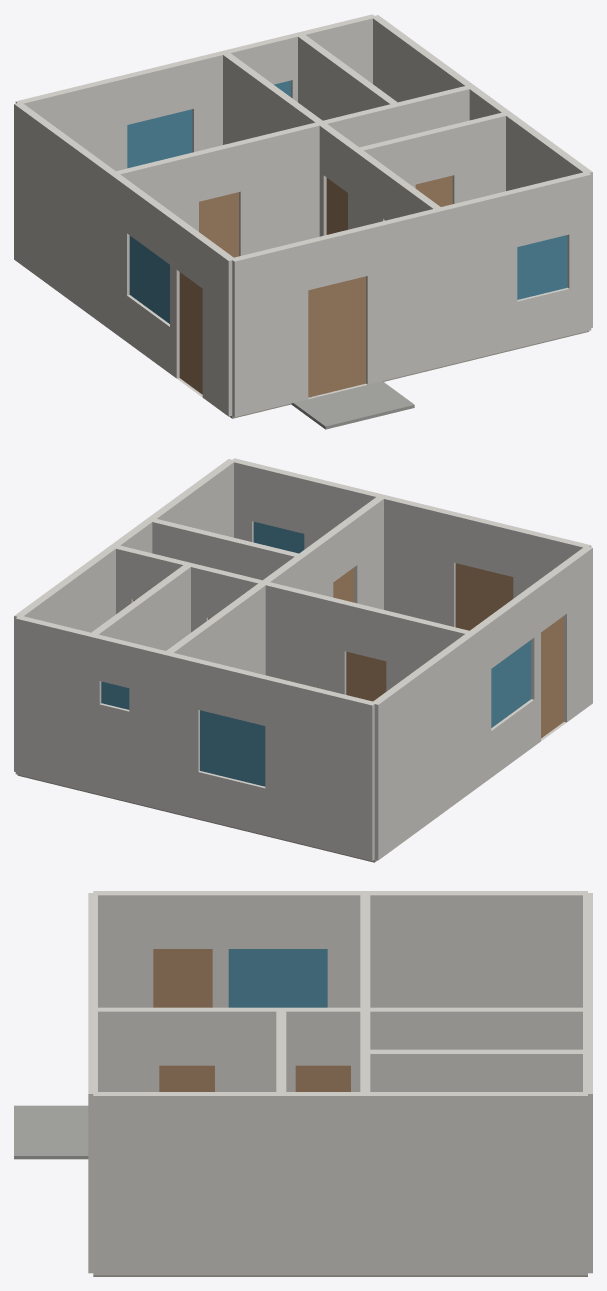
The model's file is 1BHK_01_generated.fbx.
The picture shows the model from 3 angles, top to bottom: view 1: azimuth 30°, elevation 25°; view 2: azimuth 150°, elevation 25°; view 3: azimuth 270°, elevation 25°; orthographic projection. The views are drawn at different scales.
Parts seen in each view (by area): view 1: DX_WALL_W001, DX_WALL_W003, DX_WALL_W010, DX_WALL_W002, DX_WALL_W009, DX_WALL_W016, DX_WALL_W006, DX_SOCKET_DOOR_D_BAL_01_W001, DX_WALL_W012, DX_WALL_W015, DX_WALL_W014, DX_WALL_W005 (+15 smaller); view 2: DX_WALL_W016, DX_WALL_W010, DX_WALL_W002, DX_WALL_W001, DX_WALL_W009, DX_WALL_W018, DX_WALL_W017, DX_WALL_W003, DX_WALL_W004, DX_WALL_W012, DX_WALL_W015, DX_WALL_W006 (+15 smaller); view 3: DX_WALL_W015, DX_WALL_W005, DX_WALL_W010, DX_WALL_W002, DX_WALL_W008, DX_WALL_W004, DX_WALL_W014, DX_WALL_W012, DX_SOCKET_WINDOW_WN01_W002, DX_WALL_W007, DX_BALCONY_BAL_MAIN, DX_SOCKET_DOOR_D_ENTRY_W002 (+9 smaller).
Boxes of the visible parts, x1=… form: DX_WALL_W001: x1=230, y1=209, x2=441, y2=417; DX_WALL_W003: x1=438, y1=171, x2=591, y2=366; DX_WALL_W010: x1=14, y1=102, x2=116, y2=329; DX_WALL_W002: x1=110, y1=173, x2=233, y2=416; DX_WALL_W009: x1=112, y1=122, x2=320, y2=256; DX_WALL_W016: x1=15, y1=51, x2=226, y2=170; DX_WALL_W006: x1=356, y1=112, x2=509, y2=203; DX_SOCKET_DOOR_D_BAL_01_W001: x1=308, y1=276, x2=365, y2=397; DX_WALL_W012: x1=222, y1=51, x2=324, y2=144; DX_WALL_W015: x1=371, y1=15, x2=474, y2=102; DX_WALL_W014: x1=296, y1=33, x2=398, y2=120; DX_WALL_W005: x1=506, y1=112, x2=592, y2=327; DX_WALL_W016: x1=165, y1=652, x2=376, y2=860; DX_WALL_W010: x1=371, y1=633, x2=474, y2=860; DX_WALL_W002: x1=468, y1=547, x2=592, y2=789; DX_WALL_W001: x1=380, y1=495, x2=591, y2=627; DX_WALL_W009: x1=262, y1=581, x2=470, y2=694; DX_WALL_W018: x1=15, y1=615, x2=93, y2=792; DX_WALL_W017: x1=90, y1=633, x2=167, y2=810; DX_WALL_W003: x1=231, y1=458, x2=383, y2=549; DX_WALL_W004: x1=297, y1=496, x2=383, y2=609; DX_WALL_W012: x1=164, y1=582, x2=266, y2=675; DX_WALL_W015: x1=14, y1=545, x2=117, y2=771; DX_WALL_W006: x1=152, y1=518, x2=300, y2=580; DX_WALL_W015: x1=365, y1=1092, x2=587, y2=1275; DX_WALL_W005: x1=93, y1=1092, x2=281, y2=1275; DX_WALL_W010: x1=365, y1=891, x2=587, y2=1007; DX_WALL_W002: x1=93, y1=891, x2=365, y2=1007; DX_WALL_W008: x1=281, y1=1092, x2=365, y2=1275; DX_WALL_W004: x1=93, y1=1007, x2=281, y2=1091; DX_WALL_W014: x1=365, y1=1049, x2=587, y2=1091; DX_WALL_W012: x1=365, y1=1007, x2=587, y2=1049; DX_SOCKET_WINDOW_WN01_W002: x1=228, y1=949, x2=327, y2=1007; DX_WALL_W007: x1=281, y1=1007, x2=365, y2=1091; DX_BALCONY_BAL_MAIN: x1=14, y1=1105, x2=88, y2=1159; DX_SOCKET_DOOR_D_ENTRY_W002: x1=153, y1=949, x2=212, y2=1007.
Size of the model in its own units: 747 by 311 by 892.
